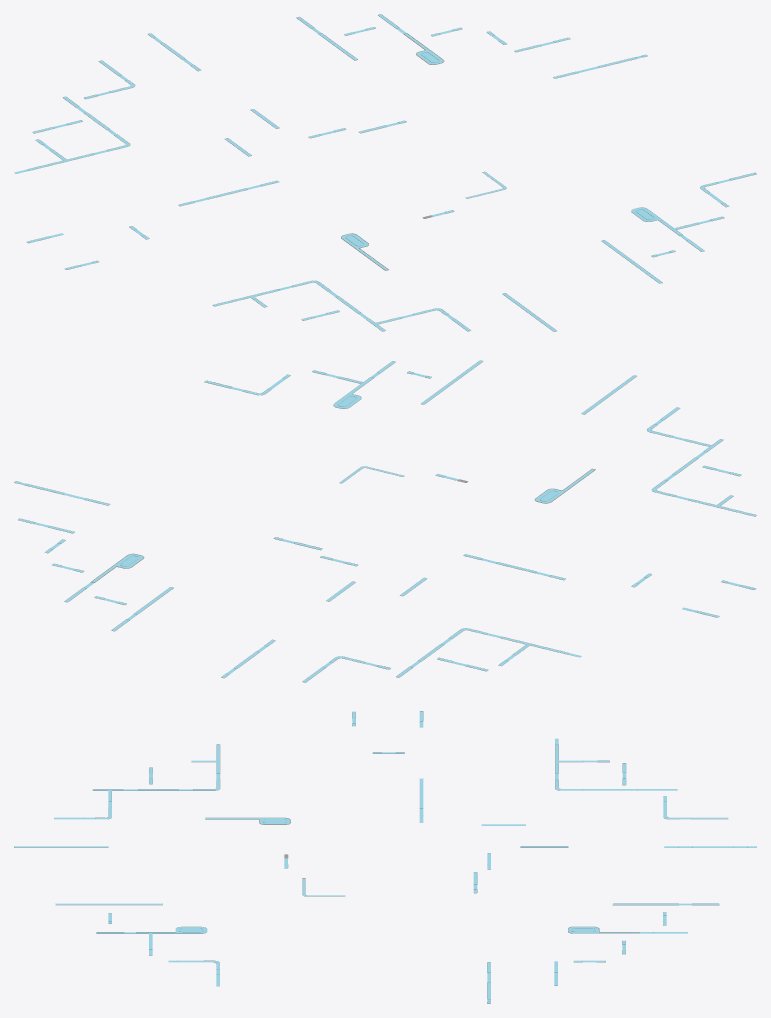
File: Grass_sidewalks_D4.fbx
3 views of the same model, one above another, from view 1: azimuth 30°, elevation 25°; view 2: azimuth 150°, elevation 25°; view 3: azimuth 270°, elevation 25° (orthographic). The views are drawn at different scales.
Bounding box in the file's own units: 219066 × 132 × 235069.
Materials: 2 (1 with a texture image).
